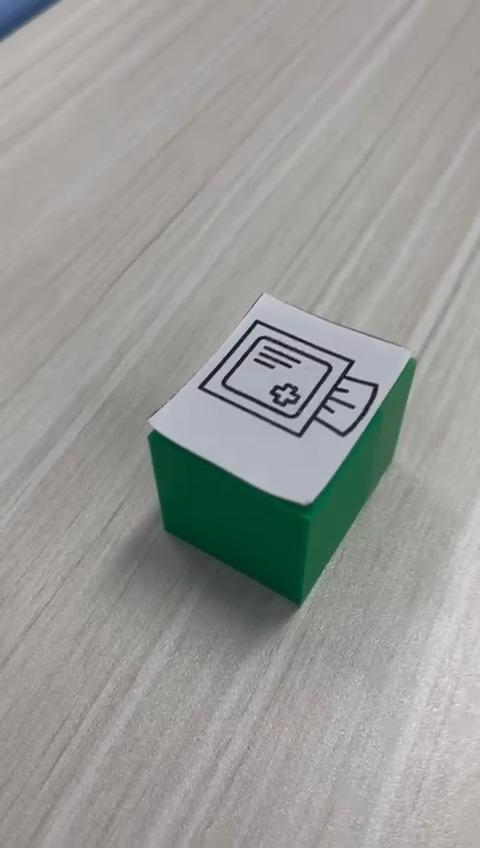Gauze: (145, 290, 416, 607)
